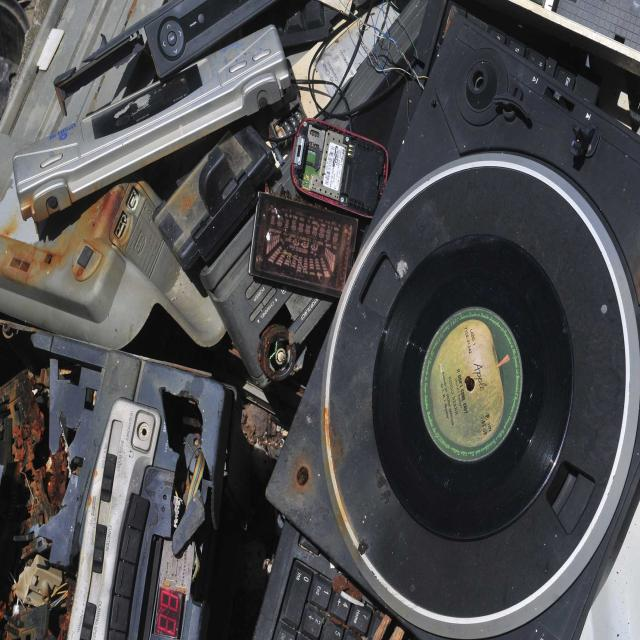metal: (174, 58, 557, 532)
